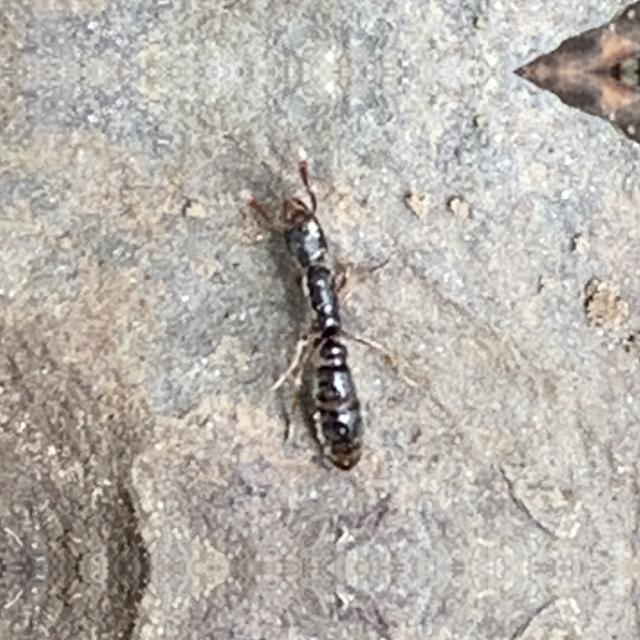Ponera: (242, 156, 413, 458)
